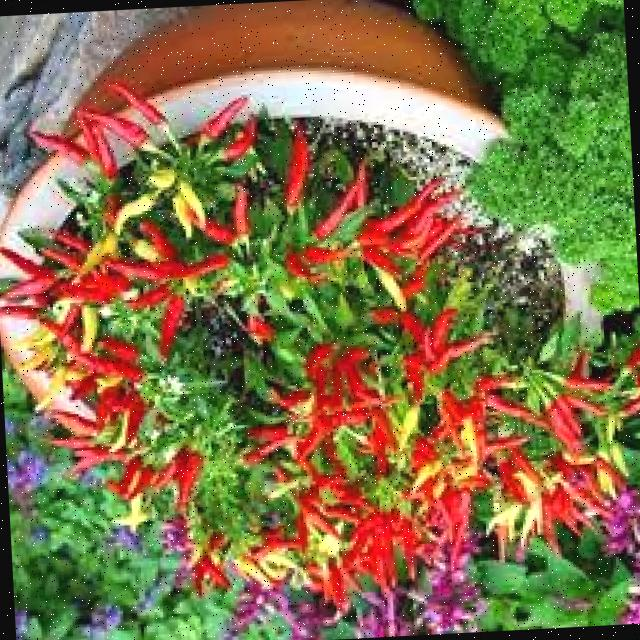healthy: (101, 181, 448, 538)
